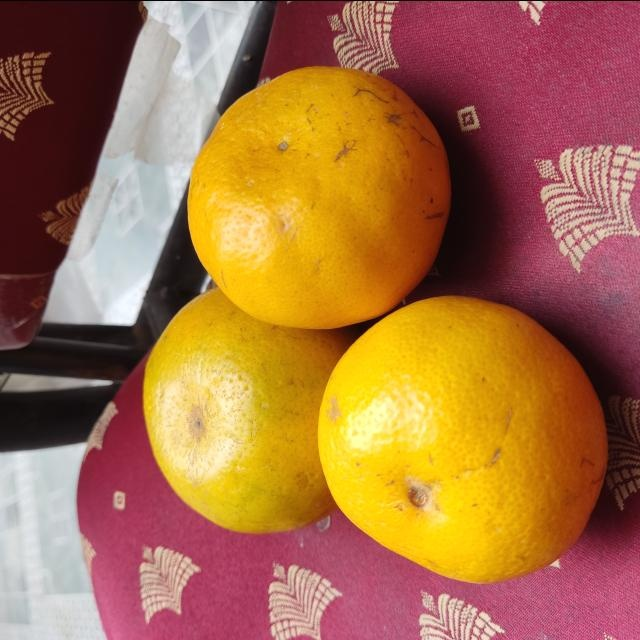agrume: (316, 292, 608, 588), (188, 62, 450, 328), (142, 287, 354, 535)
